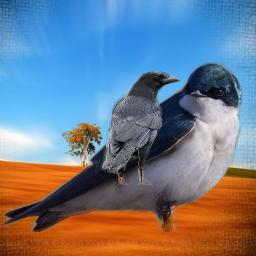Crow: (100, 71, 181, 185)
Swallow: (0, 62, 243, 232)
